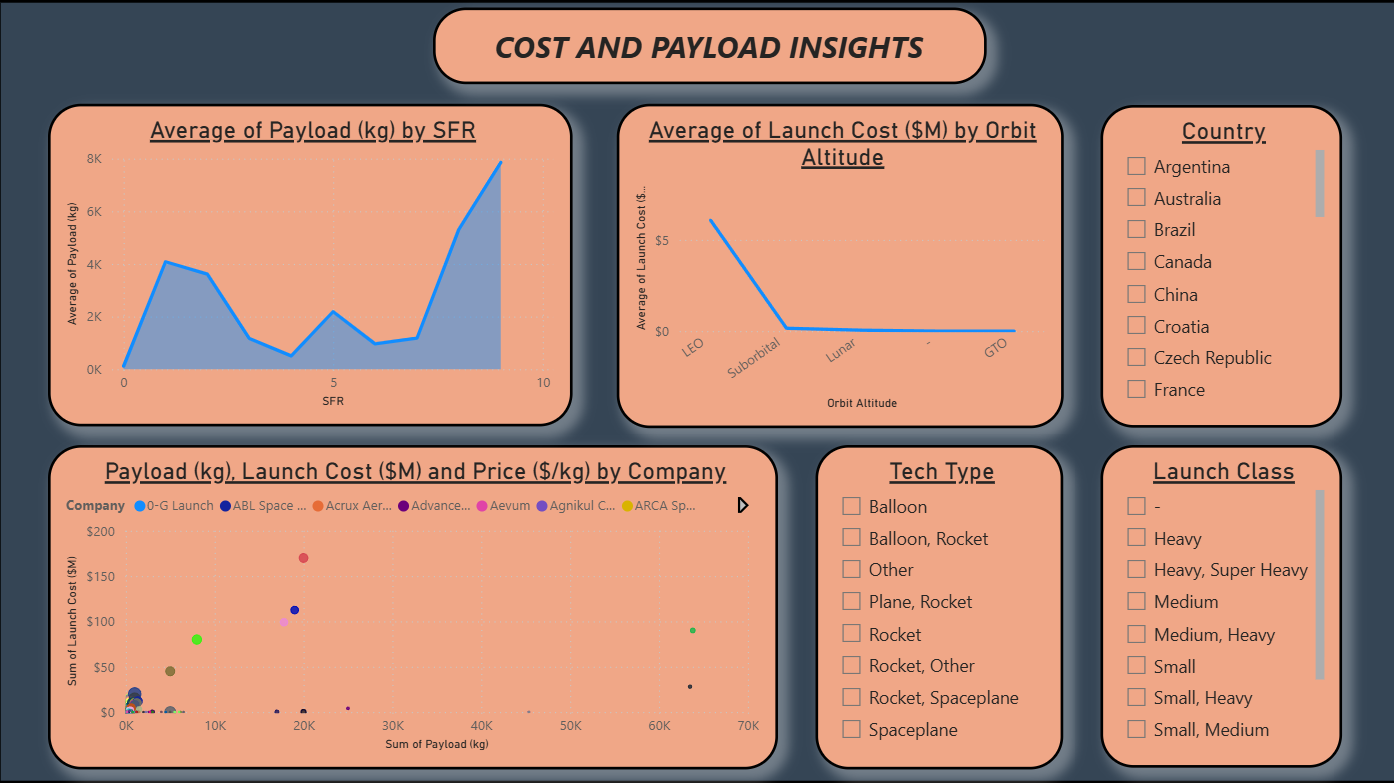

This screenshot's page, from the dashboard's own definition file:
{"tool":"powerbi","page":{"name":"Cost and Payload Insights","canvas":[1280,720],"ordinal":2},"visuals":[{"type":"scatterChart","title":"Payload (kg), Launch Cost ($M) and Price ($/kg) by Company","fields":{"Series":["Launch SFR.Company"],"X":["Sum(Launch SFR.Payload (kg))"],"Y":["Sum(Launch SFR.Launch Cost ($M))"],"Size":["Sum(Launch SFR.Price ($/kg))"]},"box":[50.1,408.3,662.2,294.3],"z":0},{"type":"lineChart","fields":{"Category":["Launch SFR.Orbit Altitude"],"Y":["Avg(Launch SFR.Launch Cost ($M))"]},"box":[566.2,98.1,405.4,294.3],"z":1000},{"type":"areaChart","fields":{"Category":["Launch SFR.SFR"],"Y":["Avg(Launch SFR.Payload (kg))"]},"box":[49.7,98.1,476.1,292.9],"z":2000},{"type":"slicer","title":"Country","fields":{"Values":["Launch SFR.Country"]},"box":[1004.8,99.6,219.3,292.9],"z":3000},{"type":"slicer","title":"Tech Type","fields":{"Values":["Launch SFR.Tech Type"]},"box":[746.5,408.3,225.1,294.3],"z":4000},{"type":"slicer","title":"Launch Class","fields":{"Values":["Launch SFR.Launch Class"]},"box":[1004.8,408.3,219.3,292.9],"z":5000},{"type":"textbox","box":[399.6,11.5,502.1,69.3],"z":6000}]}

Visuals, with their boxes in screenshot pixels (x1, y1, x2, y2), scaled from the page's 1280x720 canvas onto the 1394x783 screenshot:
"Payload (kg), Launch Cost ($M) and Price ($/kg) by Company" scatterChart: <box>55,444,776,764</box>
lineChart - Launch SFR.Orbit Altitude x Avg(Launch SFR.Launch Cost ($M)): <box>617,107,1058,427</box>
areaChart - Launch SFR.SFR x Avg(Launch SFR.Payload (kg)): <box>54,107,573,425</box>
"Country" slicer: <box>1094,108,1333,427</box>
"Tech Type" slicer: <box>813,444,1058,764</box>
"Launch Class" slicer: <box>1094,444,1333,763</box>
textbox: <box>435,13,982,88</box>
